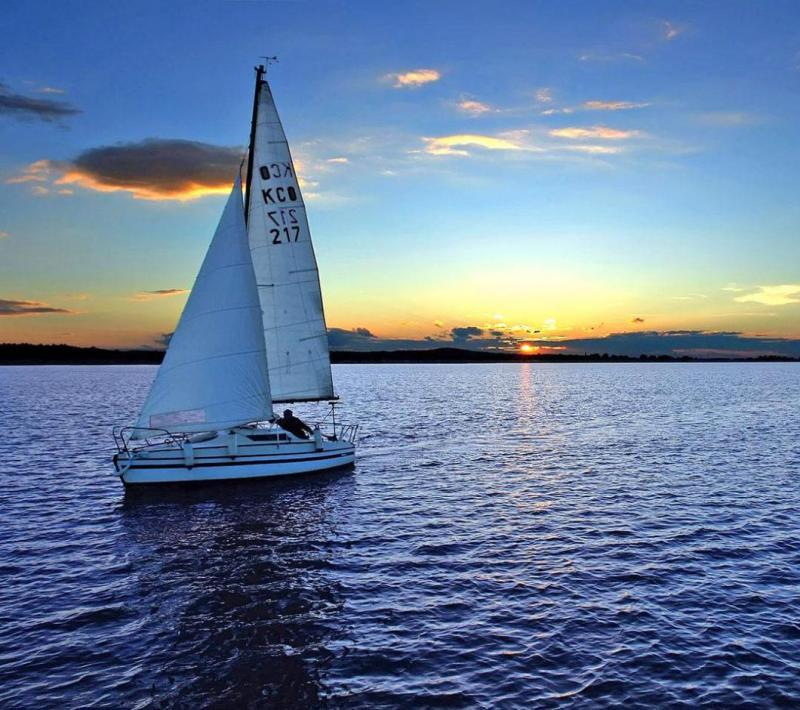fanchuan: (95, 62, 415, 500)
